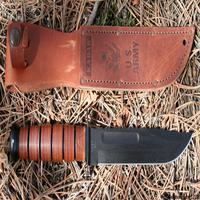knife: (7, 117, 195, 176)
